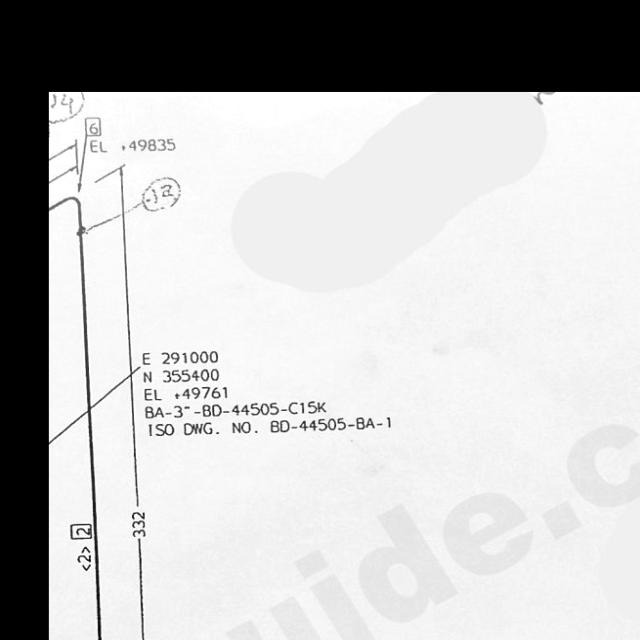Item number: (69, 521, 92, 542), (85, 115, 102, 138)
Measrement: (128, 340, 149, 639)
Symbol: (49, 187, 88, 240)
Weld number: (141, 173, 183, 214)
other: (142, 345, 393, 438), (88, 135, 179, 156)
